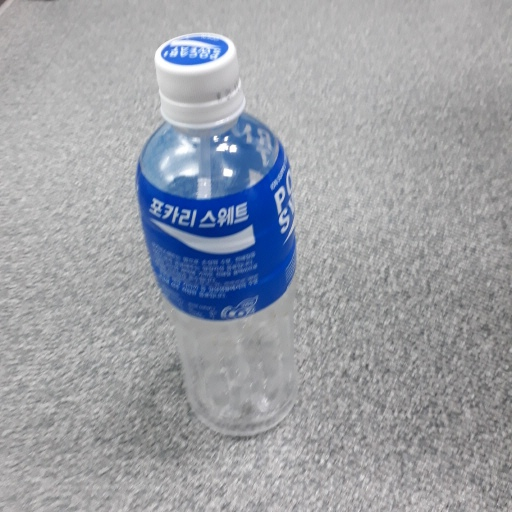Plastic_0: (135, 34, 301, 437)
